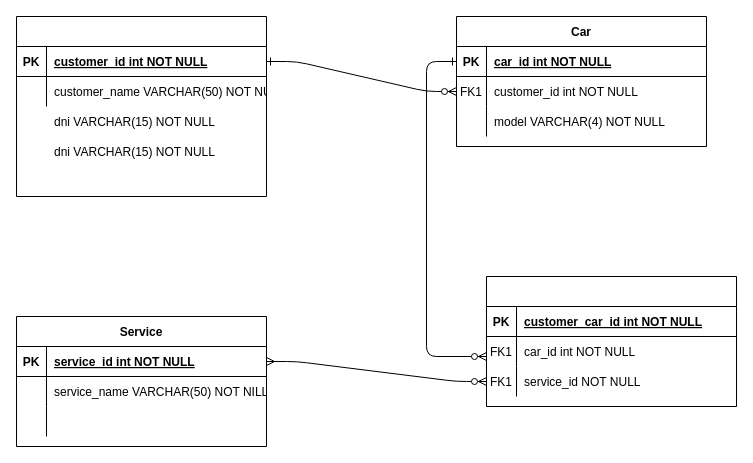
The diagram is 753 pixels wide and 463 high, and some of its shapes have lost their labels. Each missing label, with the box of its shape:
Car/Service: (486, 276, 736, 406)
Customers: (16, 16, 266, 196)
